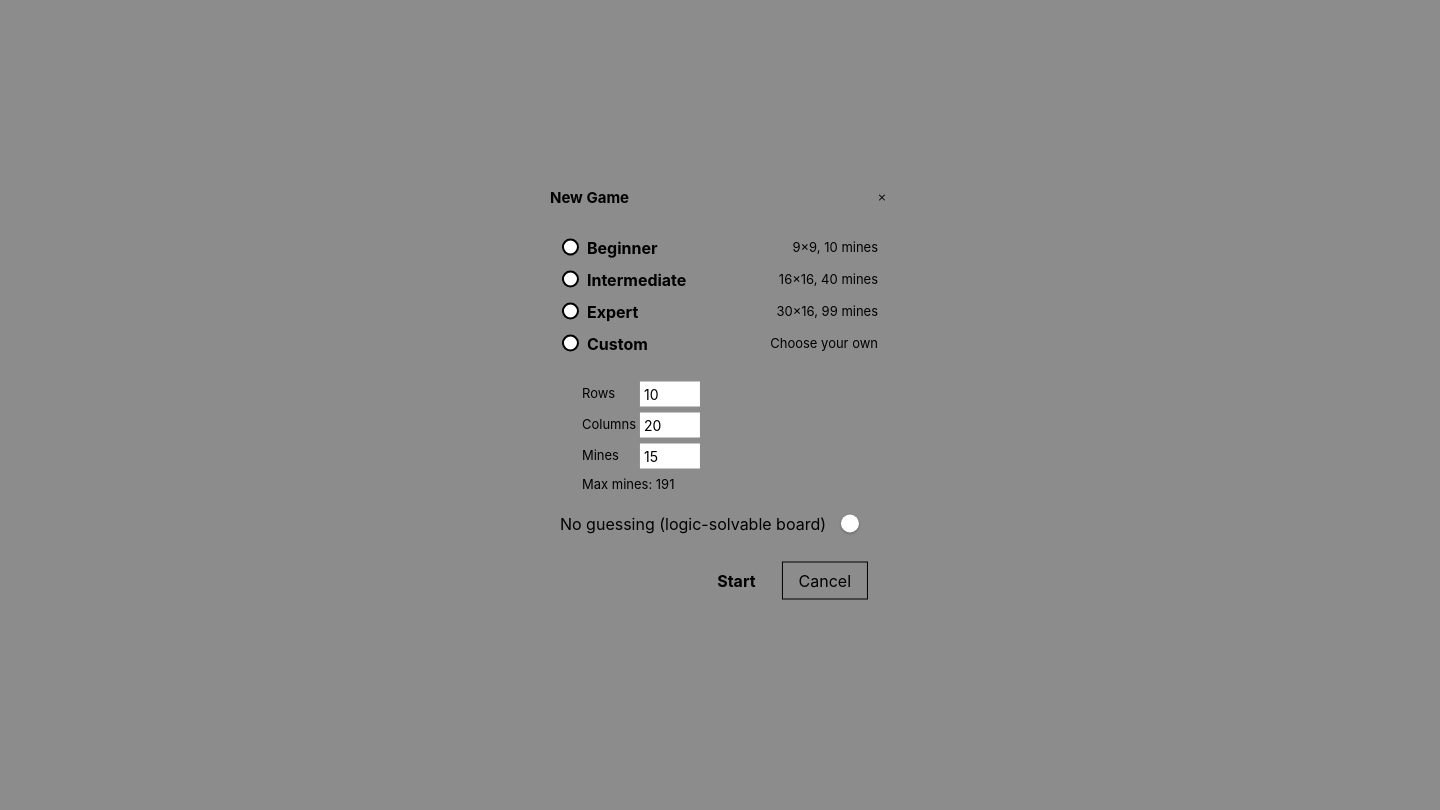
Test: NewGameModal – custom size inputs › clamps cols on blur
Replace the text in the number field labelled "Columns" with "2" at (670, 424), box x1=640 y1=412 x2=700 y2=437
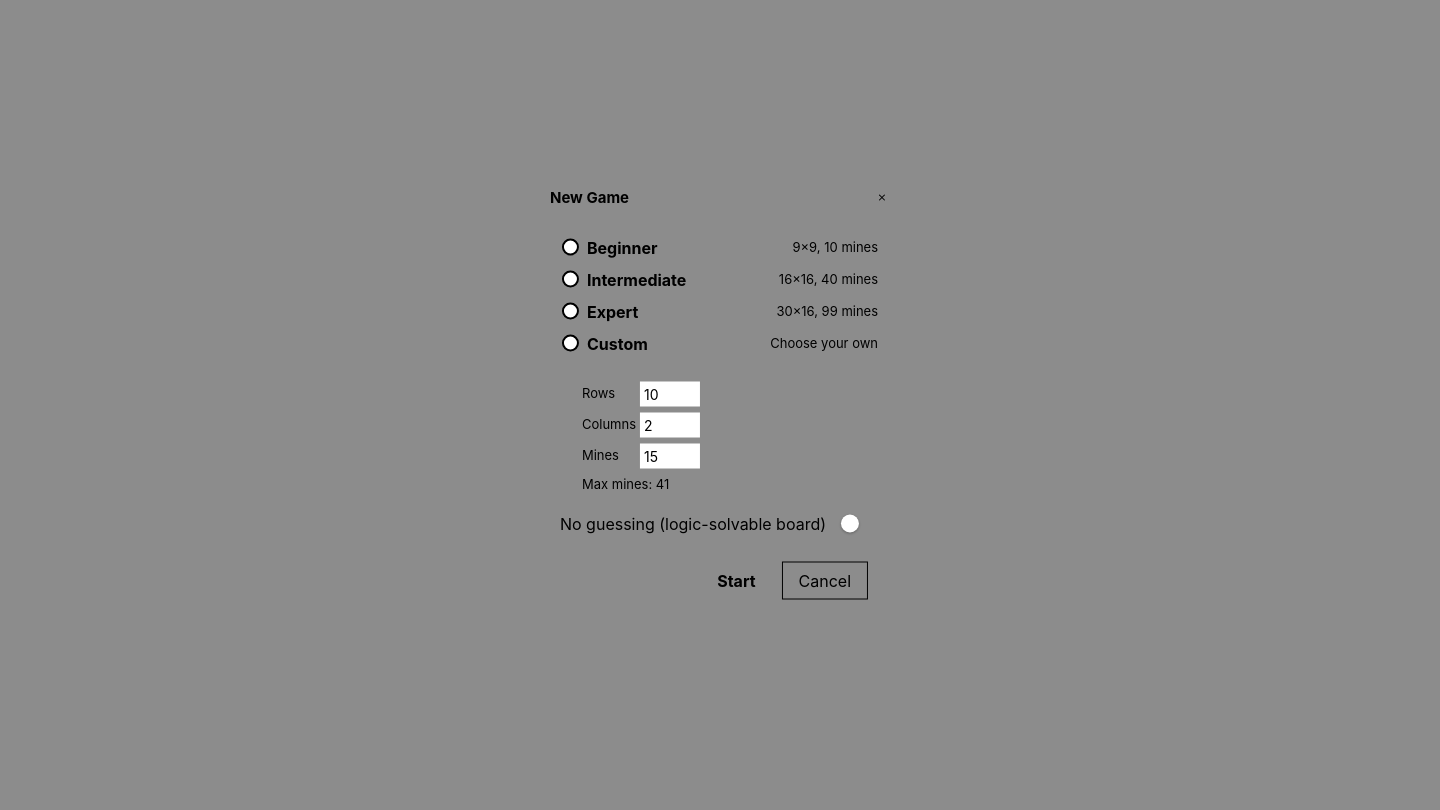
Leave the number field labelled "Columns", box x1=640 y1=412 x2=700 y2=437
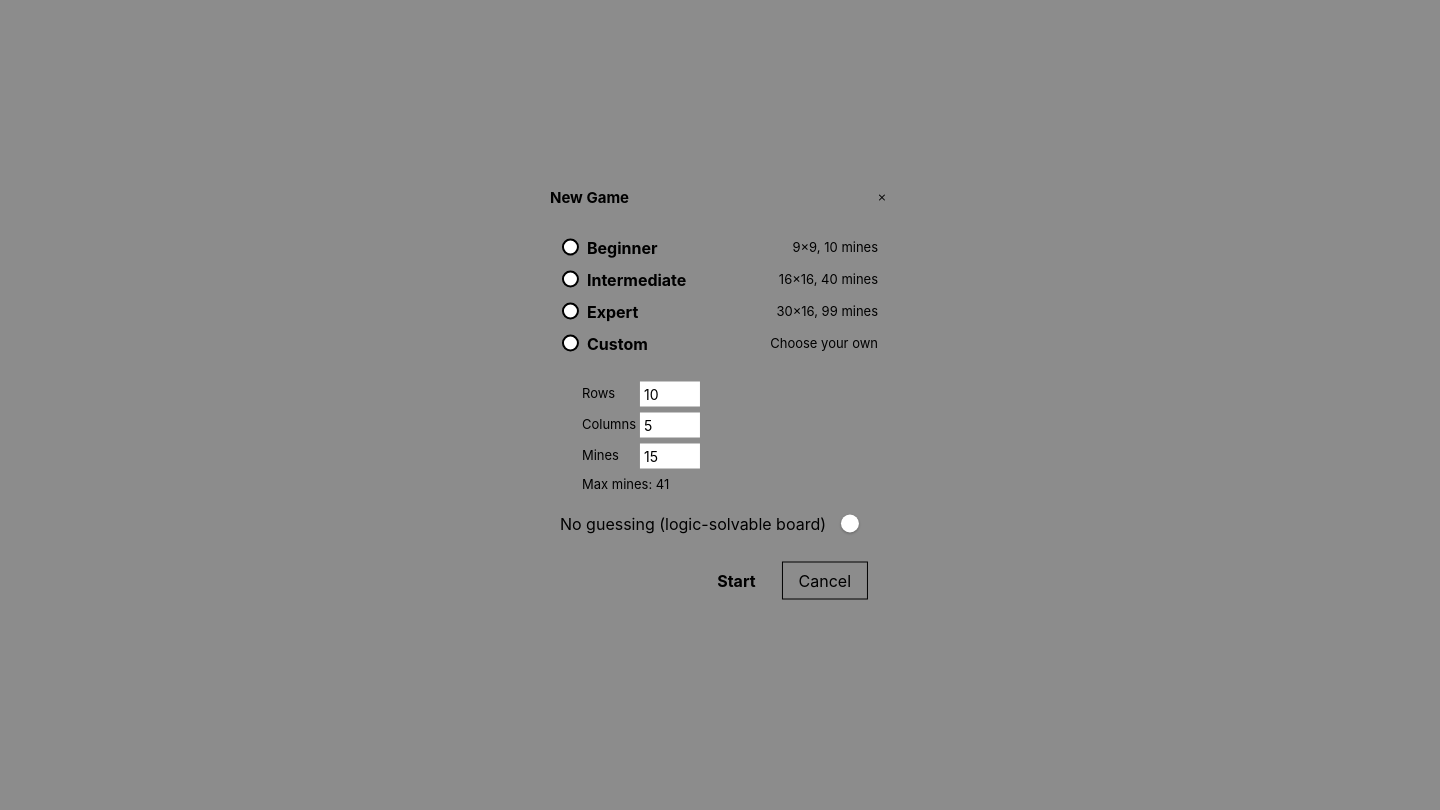
Expected: the number field labelled "Columns" holds "5", x1=640 y1=412 x2=700 y2=437
